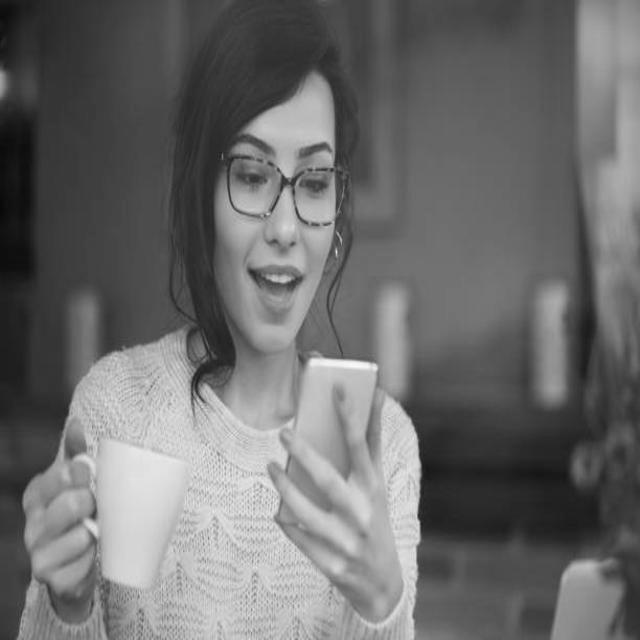Surprised: (221, 73, 336, 340)
